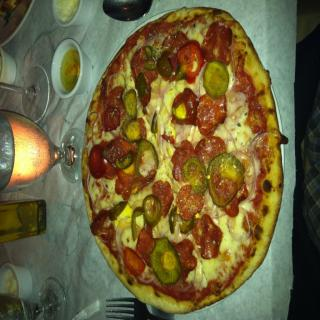Pizza: (80, 6, 289, 314)
